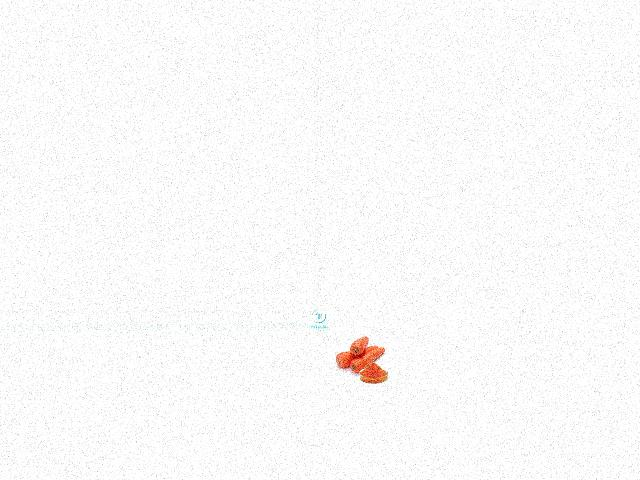carrot: (350, 345, 387, 371)
